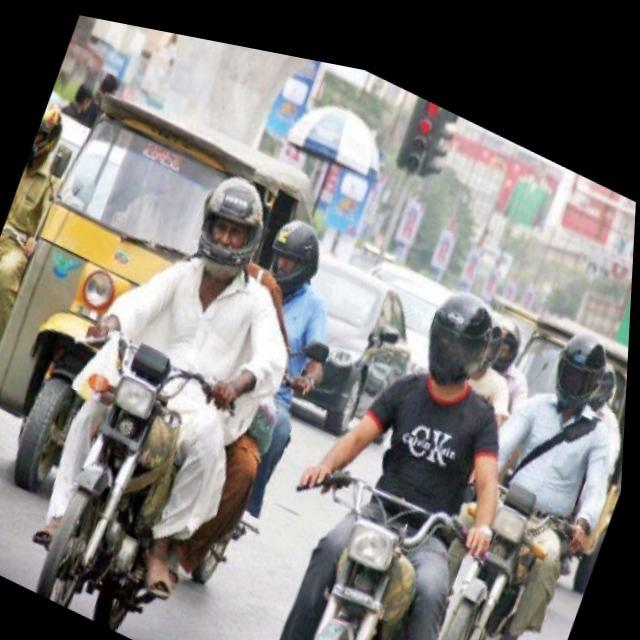Helmet: (189, 164, 268, 286), (416, 279, 497, 396)
